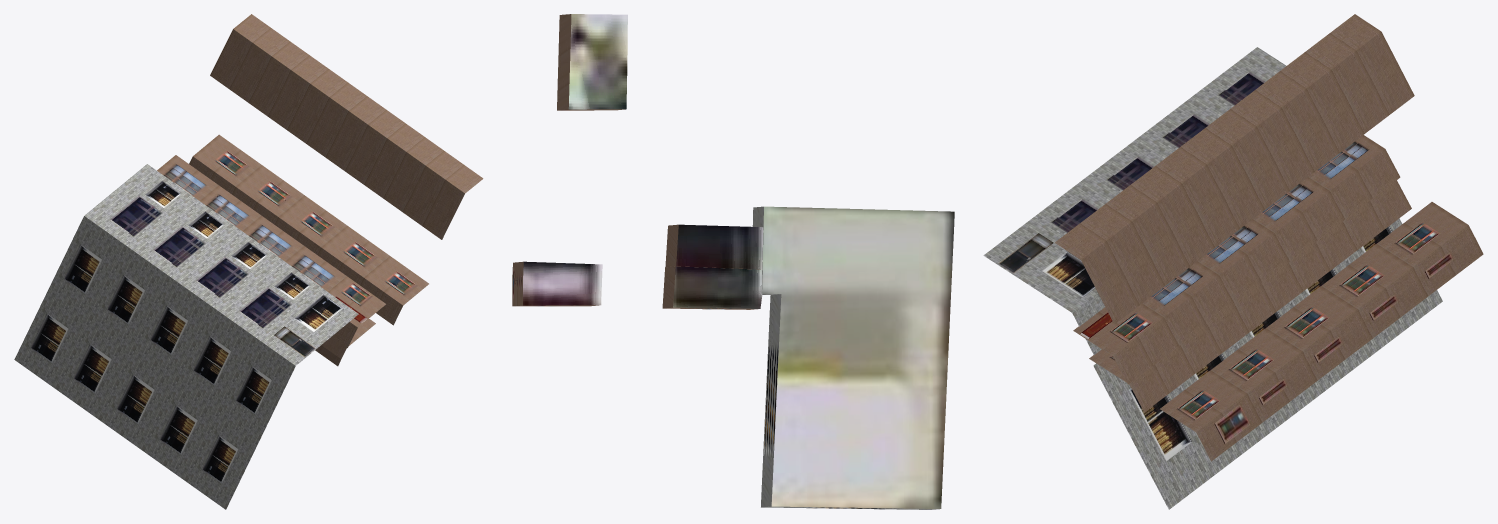
3 renders of one model, left to right at view 1: azimuth 30°, elevation 25°; view 2: azimuth 150°, elevation 25°; view 3: azimuth 270°, elevation 25°, orthographic. The views are drawn at different scales.
Size of the model in its own units: 28.04 by 28.22 by 24.88.
Materials: 21 (21 with a texture image).
